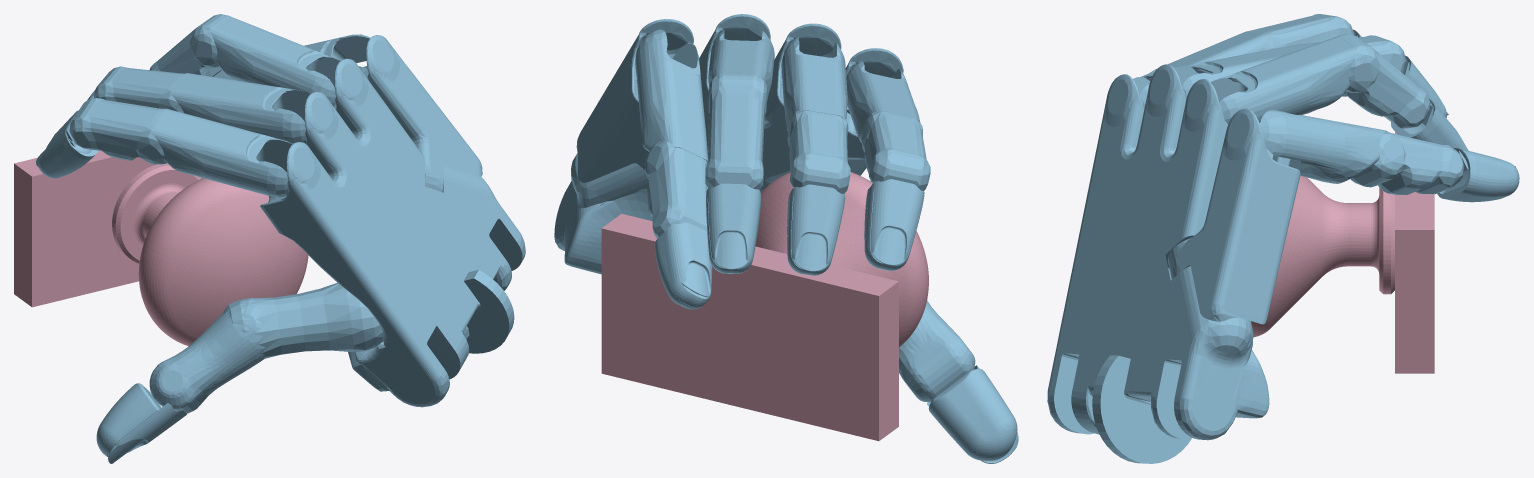
The picture shows the model from 3 angles, left to right: view 1: azimuth 30°, elevation 25°; view 2: azimuth 150°, elevation 25°; view 3: azimuth 270°, elevation 25°; orthographic projection. The views are drawn at different scales.
Parts seen in each view (by area): view 1: world; view 2: world; view 3: world.
Part boxes in pixels (x1,y1,x2,y2): world: (14,14,525,463); world: (554,14,1018,463); world: (1047,14,1519,463).
Size of the model in its own units: 0.1669 by 0.136 by 0.1488.
